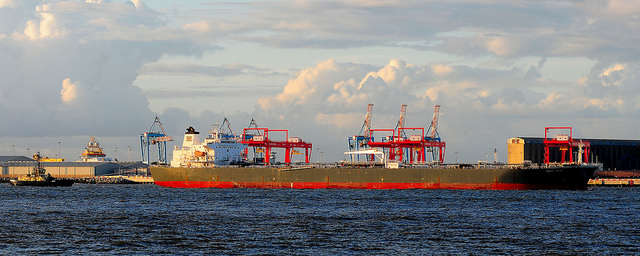tanker: (145, 122, 601, 194)
tug_boat: (9, 149, 74, 193)
